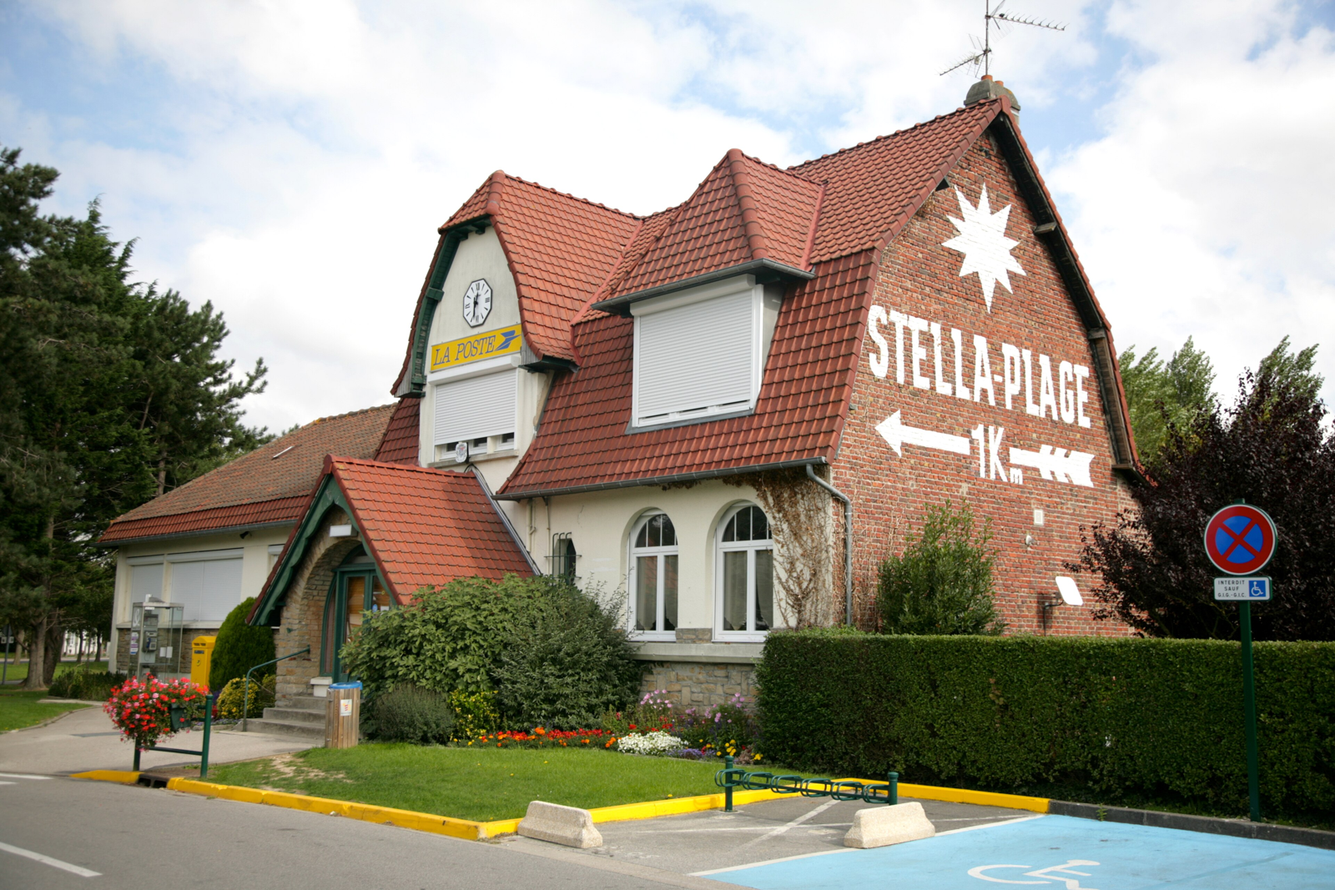fachada: (96, 125, 1204, 738)
poste: (1199, 492, 1304, 842)
